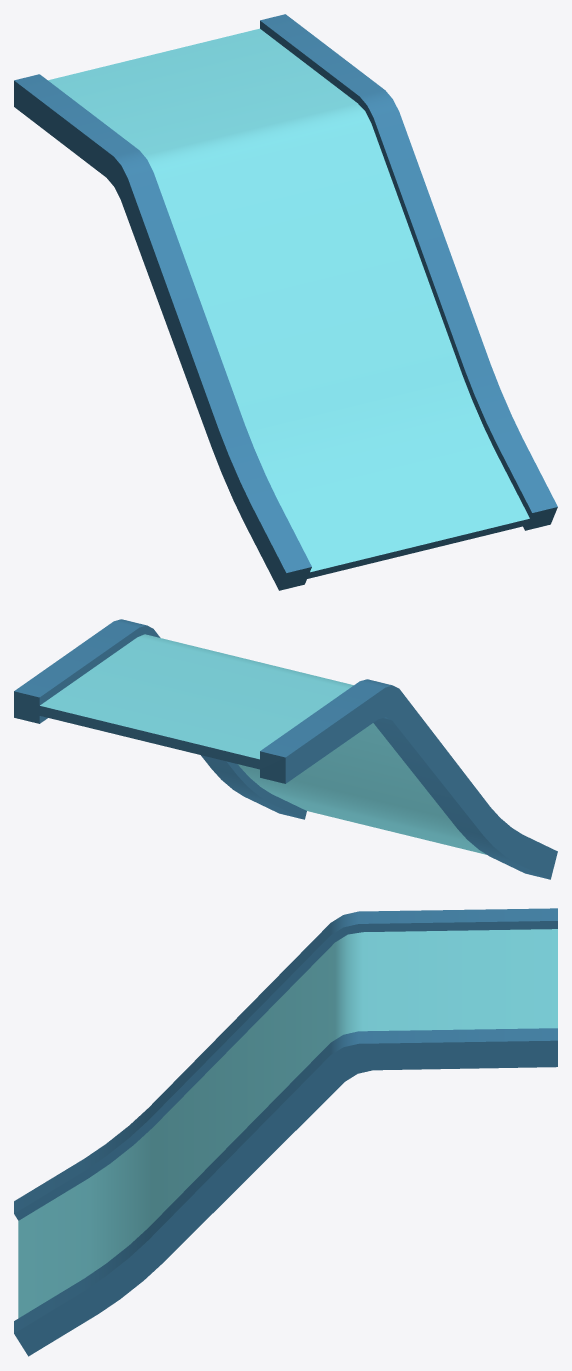
Rendered from Ground5_Blue.fbx.
3 views of the same model, one above another, from view 1: azimuth 30°, elevation 25°; view 2: azimuth 150°, elevation 25°; view 3: azimuth 270°, elevation 25° (orthographic).
Parts seen in each view (by area): view 1: Cube.021; view 2: Cube.021; view 3: Cube.021.
Part boxes in pixels (x1,y1,x2,y2): Cube.021: (14,14,557,590); Cube.021: (14,619,557,879); Cube.021: (14,908,557,1356).
Size of the model in its own units: 6.28 by 10.9 by 6.99.
